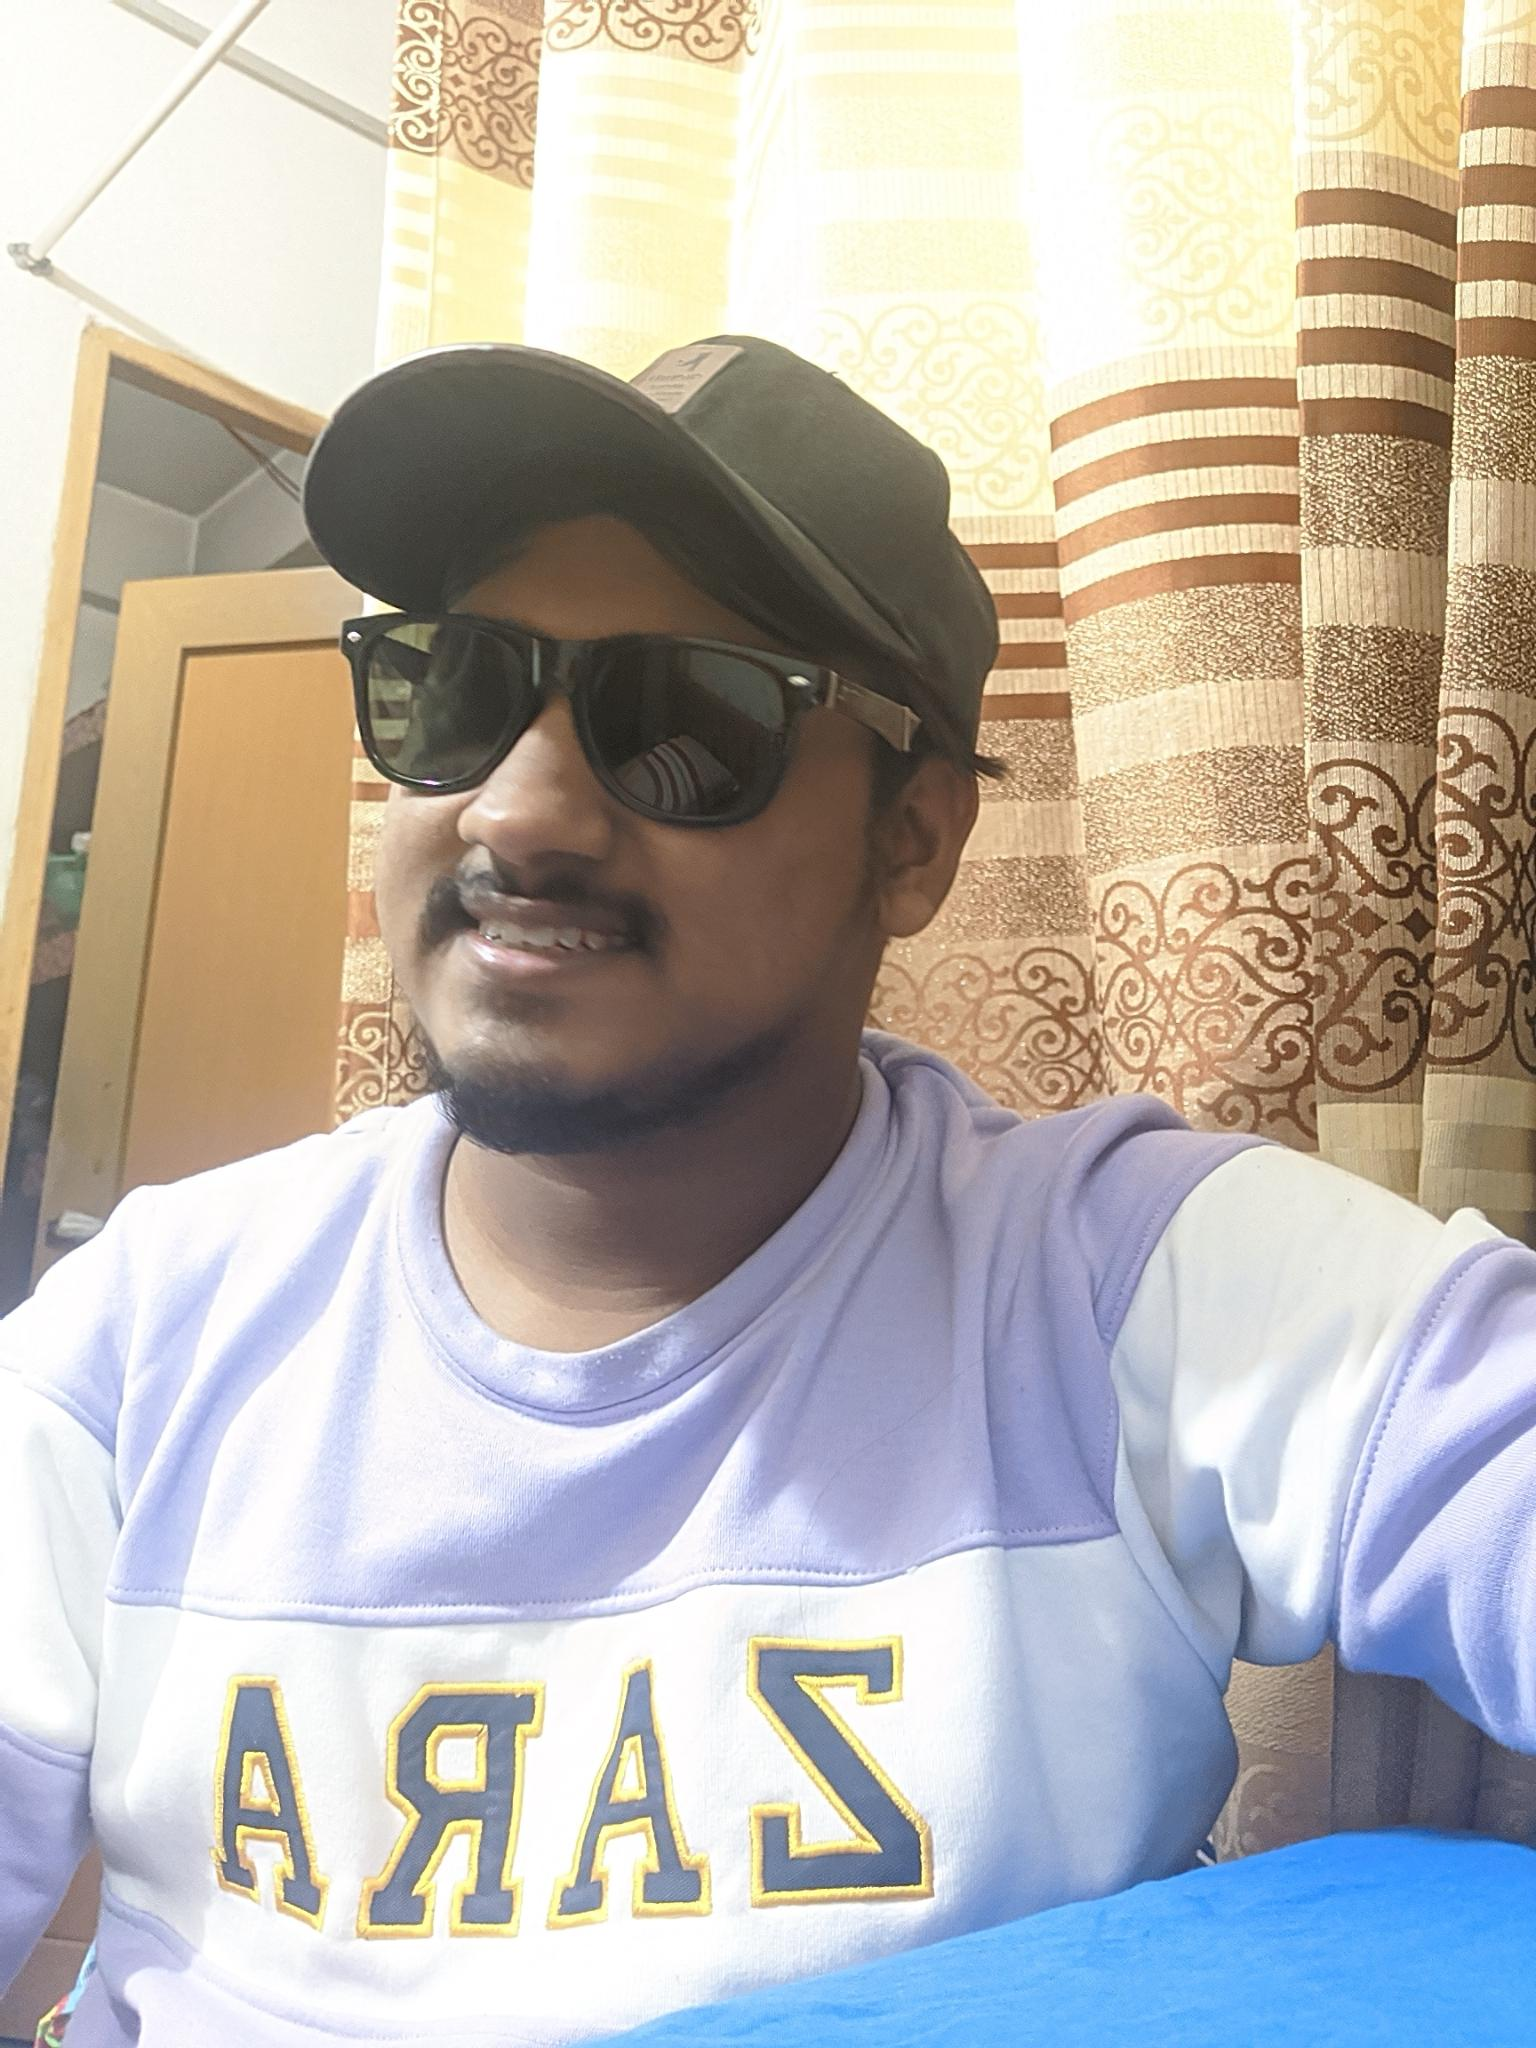Happy: (347, 556, 807, 1116)
